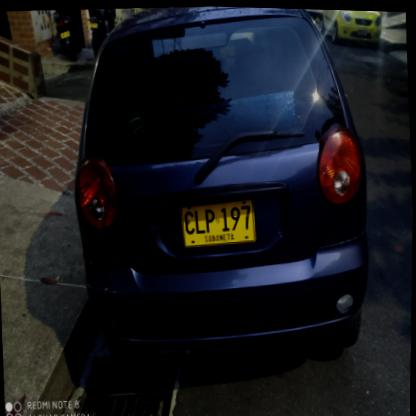placa: (174, 192, 261, 251)
